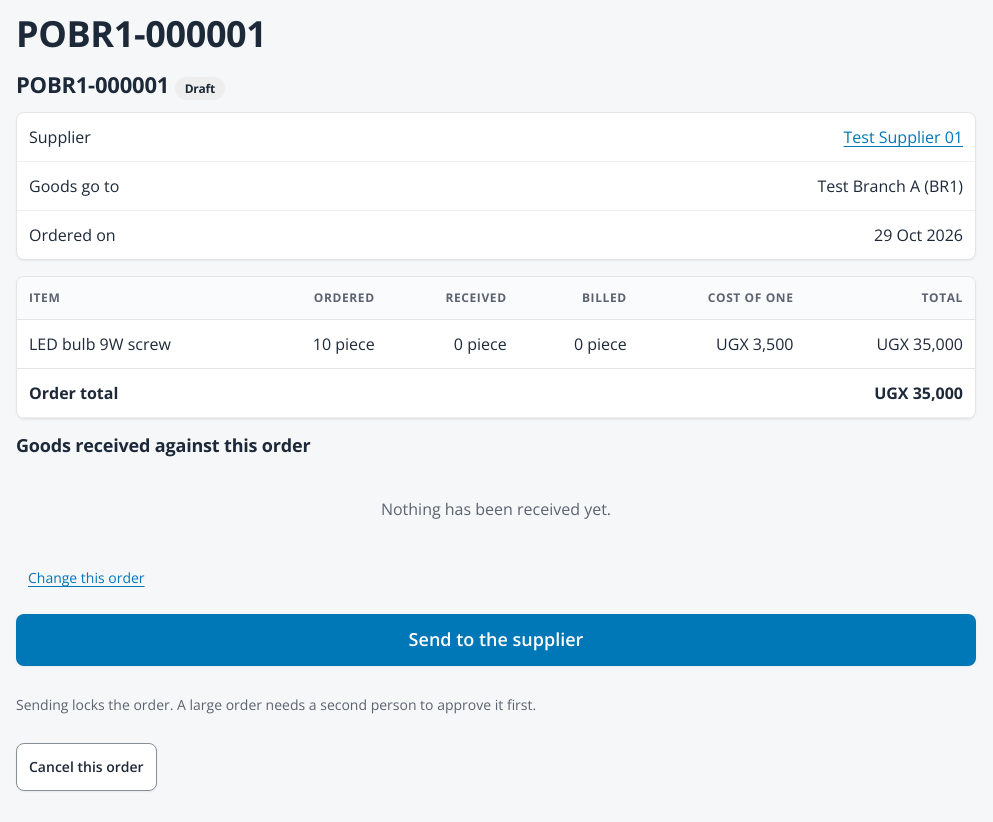
it: the purchase order pages › sends an order and then offers to receive goods against it
Step 1. Click the button "Send to the supplier" → [496, 640], box [16, 614, 976, 666]
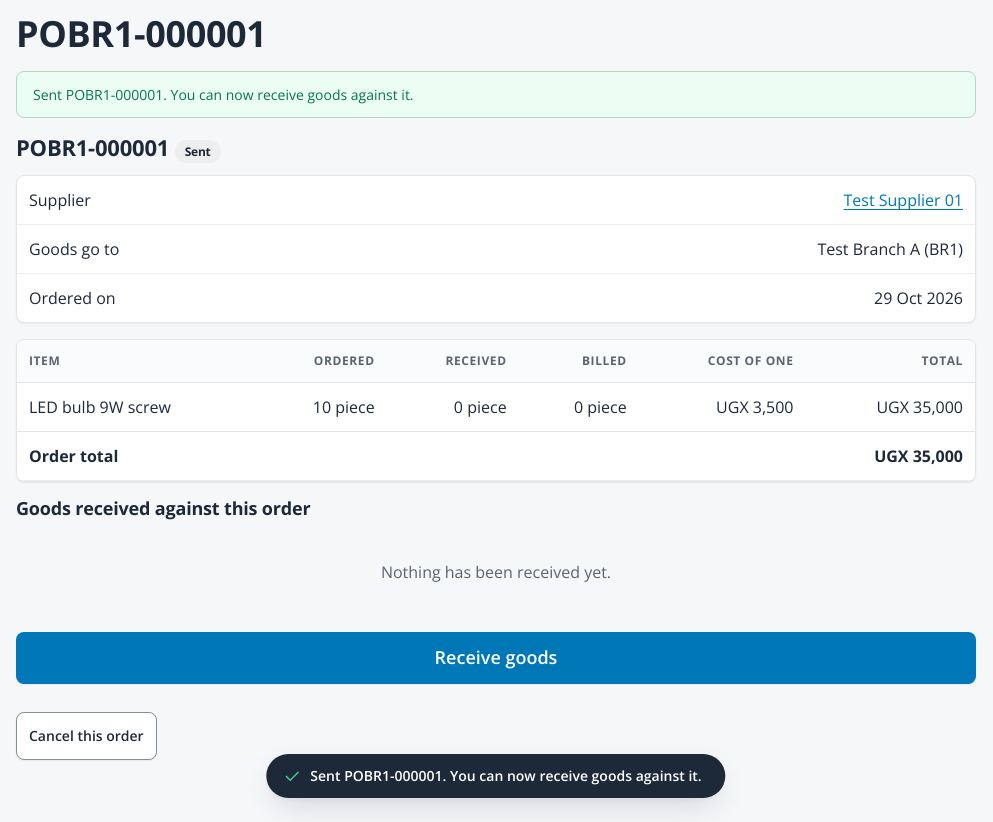
Check: the link "Receive goods" is shown, box [16, 632, 976, 684]
Check: the button "Send to the supplier" is gone
